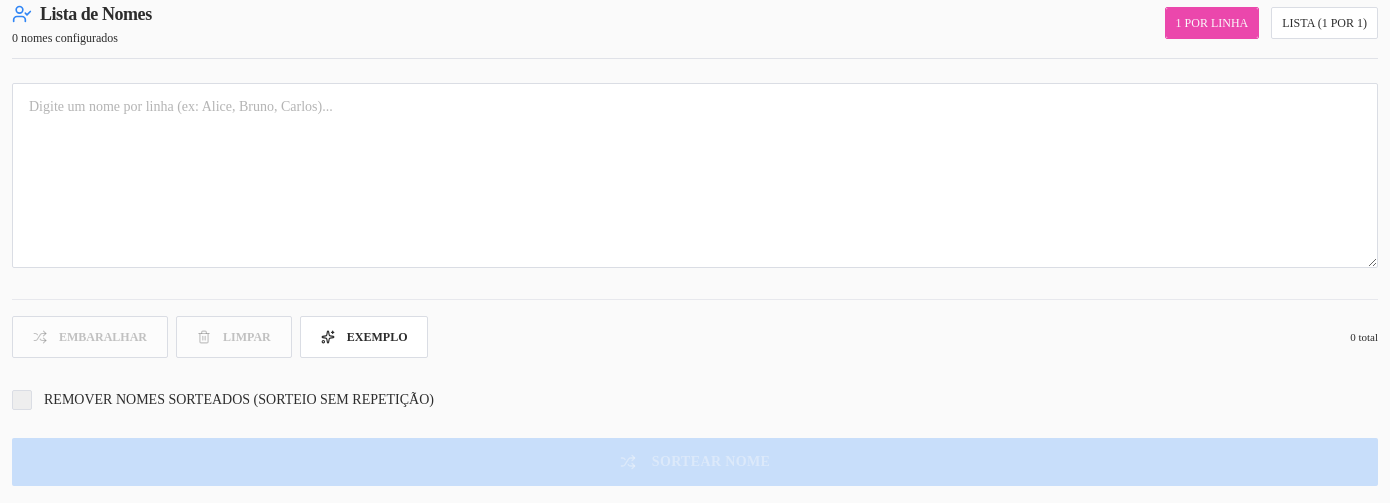
Scenario: AppNamePicker Component › toggles to list mode (1 por 1), adds and removes names
Switch to list mode
Click the radio button labelled "Lista (1 por 1)": (1325, 23) [1271,7,1378,39]
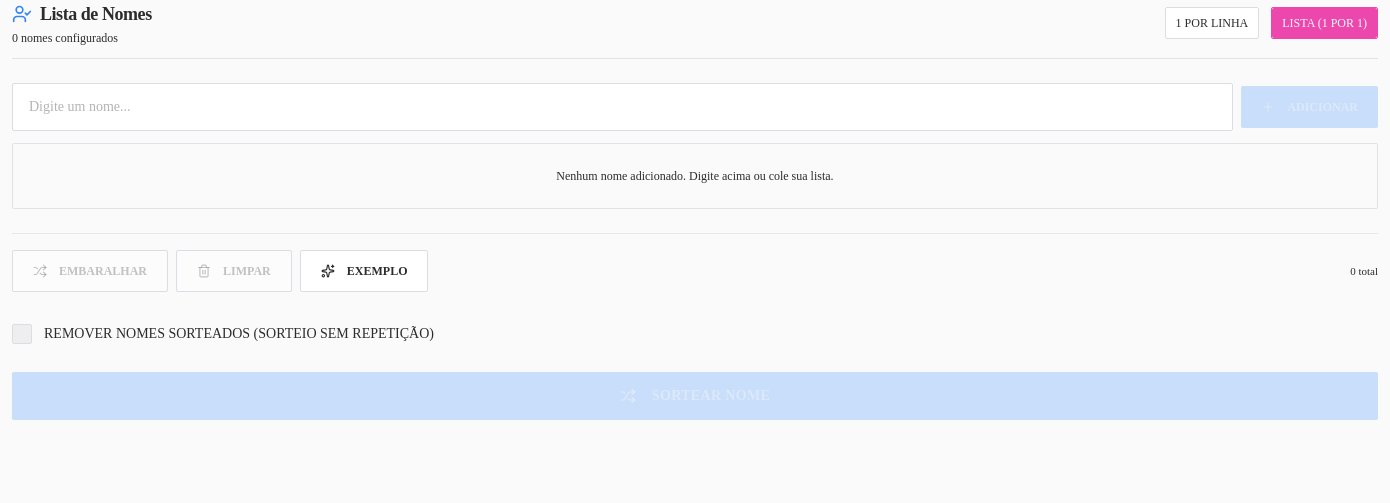
Input is rendered
In the field with placeholder "Digite um nome...": (623, 107) [12,83,1233,131], type "Lucas"
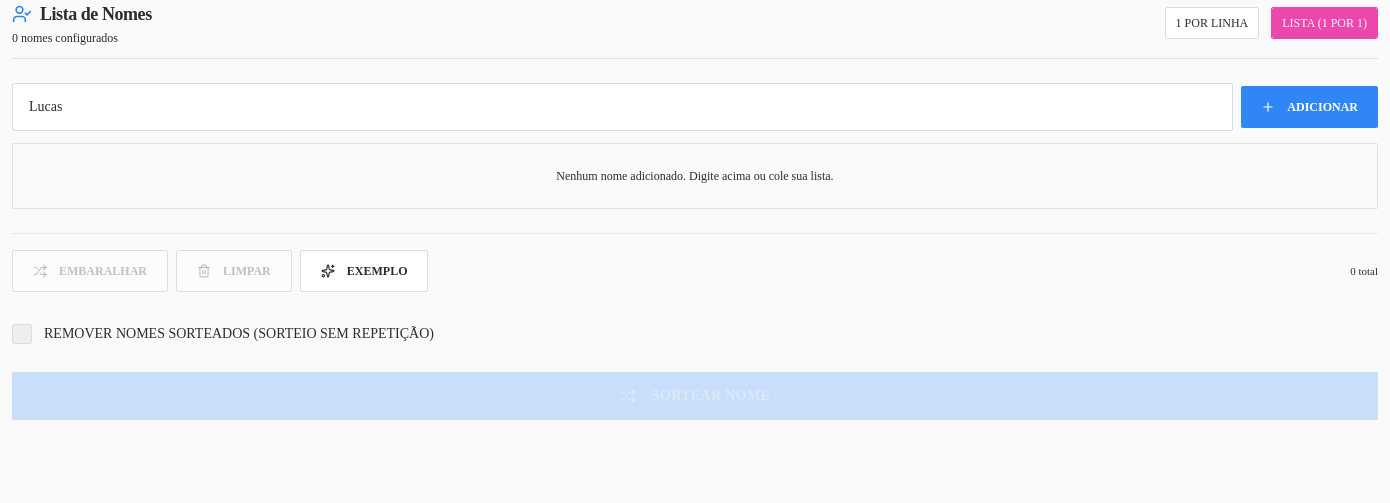
Click the button "Adicionar": (1310, 107) [1241,86,1378,128]
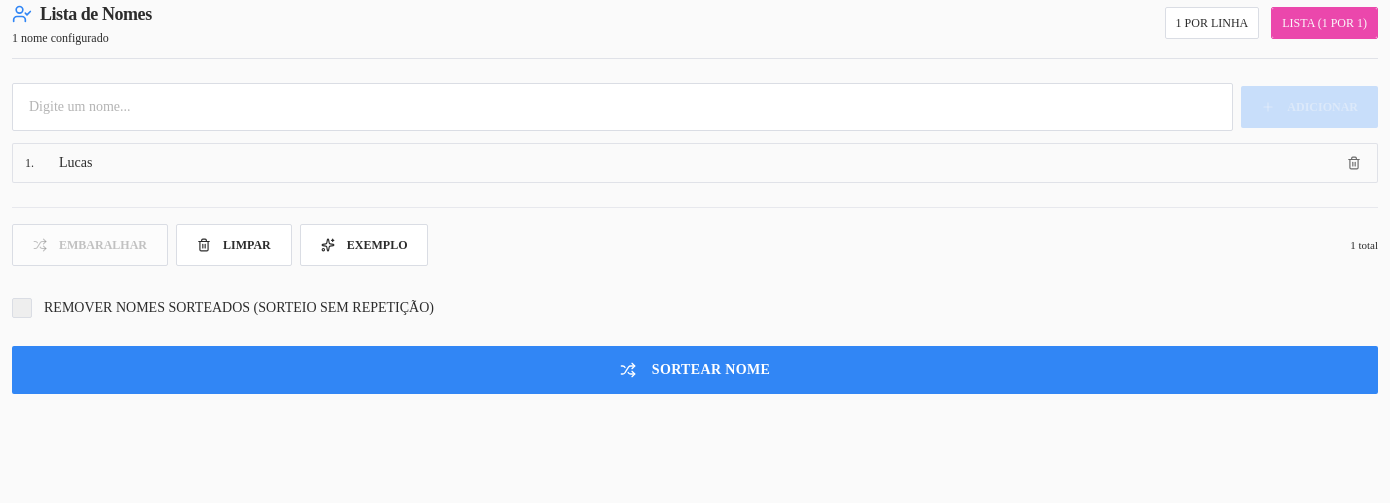
Expected: the text "Lucas" is shown, [59,153,92,173]
Expected: the text "1 nome configurado" is shown, [12,31,109,45]
Remove Lucas
Click the button named "remover lucas": (1354, 163) [1343,152,1365,174]
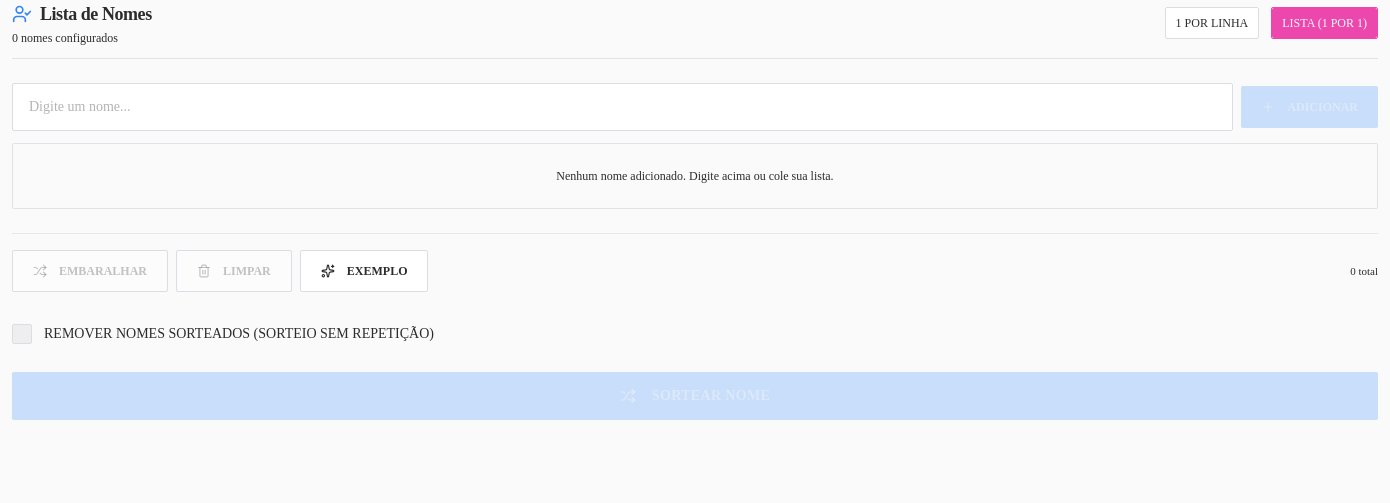
Expected: the text "Lucas" is gone
Expected: the text "0 nomes configurados" is shown, [12,31,118,45]
